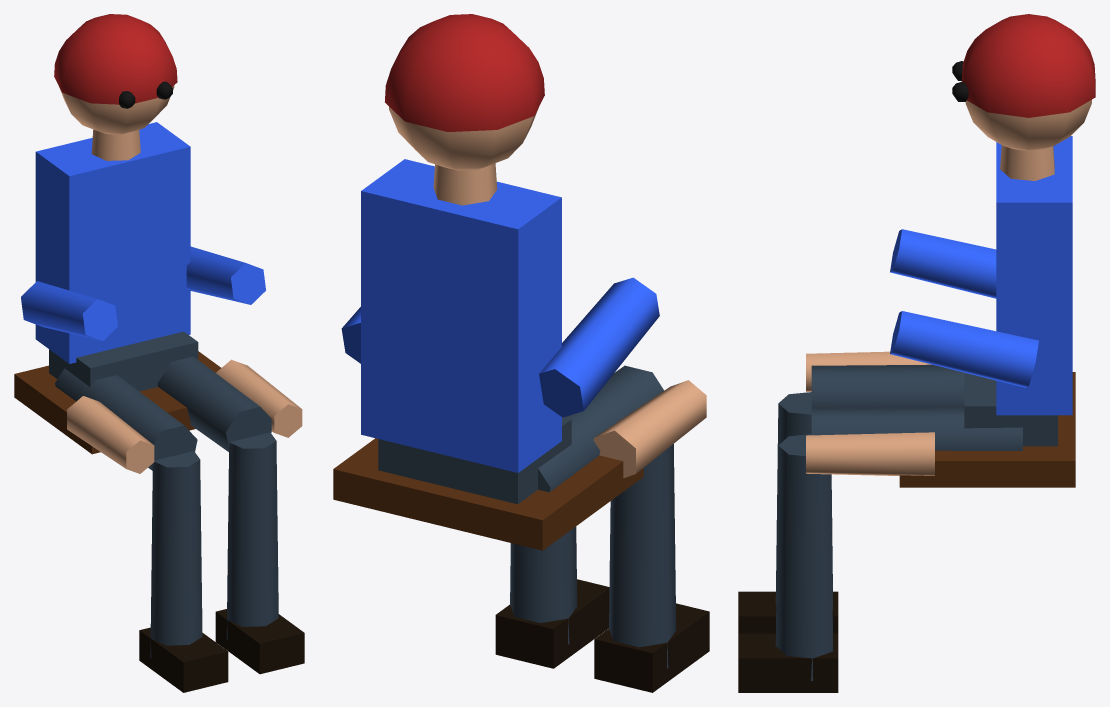
File: crowd-seated-07.glb
3 views of the same model, side by side, from view 1: azimuth 30°, elevation 25°; view 2: azimuth 150°, elevation 25°; view 3: azimuth 270°, elevation 25° (orthographic). The views are drawn at different scales.
Parts seen in each view (by area): view 1: Torso, Left Shin, Right Shin, Hair Cap, Right Thigh, Left Thigh, Hips, Left Upper Arm, Left Shoe, Right Shoe, Left Lower Arm, Bench Seat (+4 smaller); view 2: Torso, Hair Cap, Bench Seat, Left Shin, Left Upper Arm, Hips, Left Shoe, Right Shoe, Left Lower Arm, Right Shin, Left Thigh, Head (+2 smaller); view 3: Torso, Right Shin, Hair Cap, Right Upper Arm, Bench Seat, Left Thigh, Right Thigh, Right Lower Arm, Left Upper Arm, Right Shoe, Head, Hips (+4 smaller).
Part boxes in pixels (box(x1,y1,x2,y2)): Torso: box(35, 122, 190, 363); Left Shin: box(150, 451, 202, 658); Right Shin: box(226, 432, 278, 639); Hair Cap: box(54, 14, 177, 104); Right Thigh: box(157, 356, 271, 451); Left Thigh: box(55, 368, 197, 470); Hips: box(49, 331, 198, 391); Left Upper Arm: box(21, 281, 117, 340); Left Shoe: box(139, 627, 228, 692); Right Shoe: box(215, 609, 304, 674); Left Lower Arm: box(67, 396, 154, 473); Bench Seat: box(14, 351, 220, 454); Torso: box(361, 159, 561, 472); Hair Cap: box(385, 14, 544, 131); Bench Seat: box(333, 438, 643, 550); Left Shin: box(609, 444, 676, 668); Left Upper Arm: box(539, 277, 659, 417); Hips: box(378, 417, 571, 504); Left Shoe: box(594, 603, 709, 692); Right Shoe: box(495, 579, 609, 668); Left Lower Arm: box(593, 380, 706, 478); Right Shin: box(510, 526, 577, 644); Left Thigh: box(538, 365, 663, 492); Head: box(389, 107, 538, 170); Torso: box(996, 136, 1072, 415); Right Shin: box(775, 434, 832, 681); Hair Cap: box(962, 14, 1095, 117); Right Upper Arm: box(890, 311, 1038, 387); Bench Seat: box(899, 372, 1075, 487); Left Thigh: box(811, 364, 964, 407); Right Thigh: box(811, 406, 1022, 450); Right Lower Arm: box(806, 432, 934, 475); Left Upper Arm: box(890, 229, 996, 298); Right Shoe: box(738, 633, 838, 692); Head: box(965, 99, 1091, 151); Hips: box(964, 372, 1057, 446).
Bounding box in the file's own units: 0.4097 × 1.2 × 0.6089.
